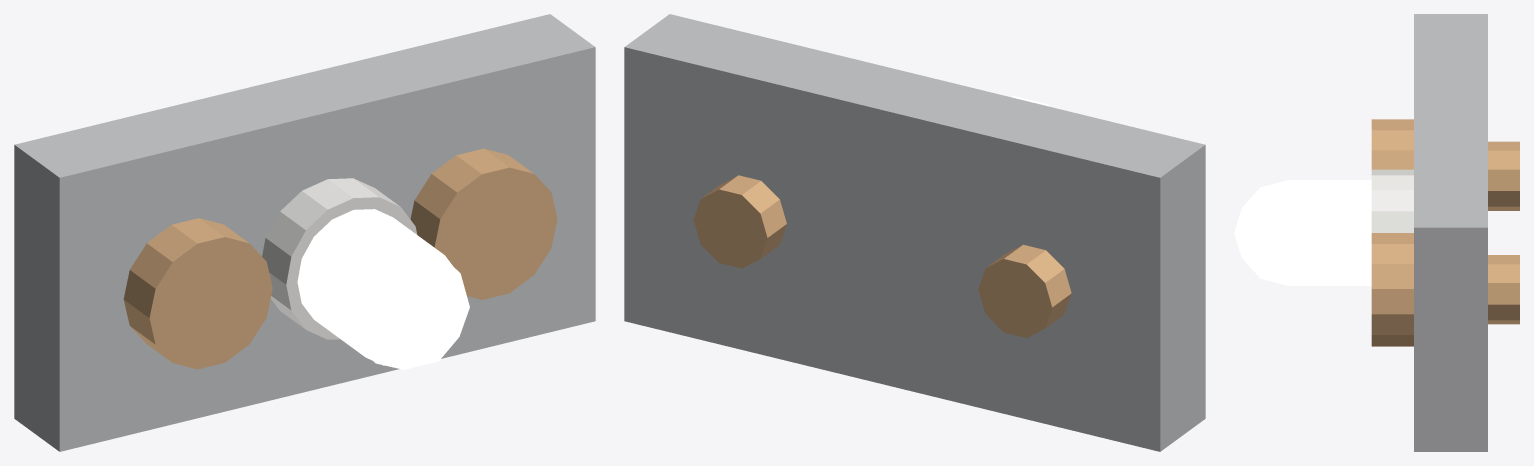
File: snap_led_rgb.glb
3 views of the same model, side by side, from view 1: azimuth 30°, elevation 25°; view 2: azimuth 150°, elevation 25°; view 3: azimuth 270°, elevation 25° (orthographic). The views are drawn at different scales.
Visible parts, largest first — view 1: plastic_gray, copper, led_rgb, white_plastic; view 2: plastic_gray, copper; view 3: plastic_gray, led_rgb, copper, white_plastic.
Part boxes in pixels (x1,y1,x2,y2): plastic_gray: [14, 14, 595, 451]; copper: [123, 148, 557, 369]; led_rgb: [297, 209, 469, 369]; white_plastic: [262, 178, 417, 339]; plastic_gray: [624, 14, 1205, 451]; copper: [693, 175, 1071, 337]; plastic_gray: [1414, 14, 1487, 451]; led_rgb: [1234, 180, 1371, 285]; copper: [1371, 119, 1519, 346]; white_plastic: [1371, 169, 1413, 232].
Bounding box in the file's own units: 0.0478 × 0.0234 × 0.027.
